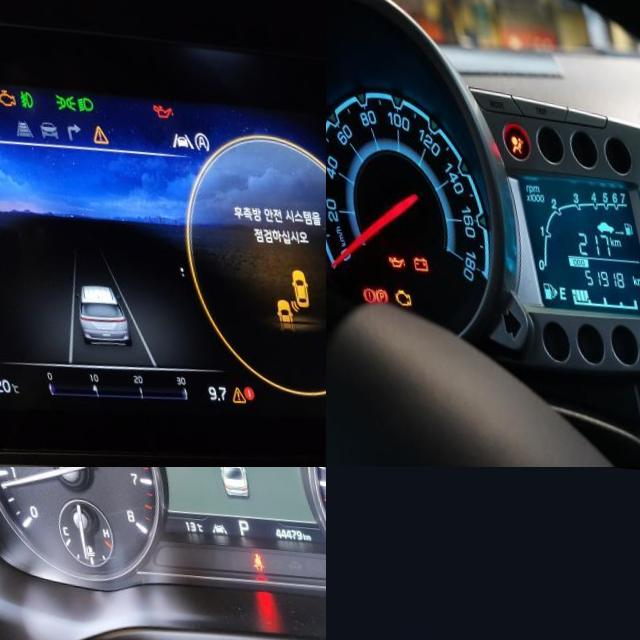Central Warning lamp: (83, 119, 101, 139), (213, 379, 229, 397)
FrontFogLight: (12, 86, 29, 106)
LaneCenteringOff: (162, 125, 187, 143)
Low beam: (70, 90, 88, 109)
SideLamp: (48, 88, 71, 107)
